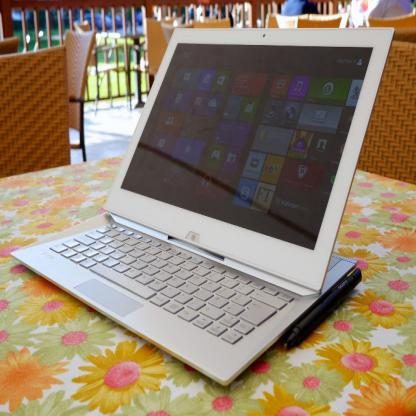board: (7, 19, 383, 404)
